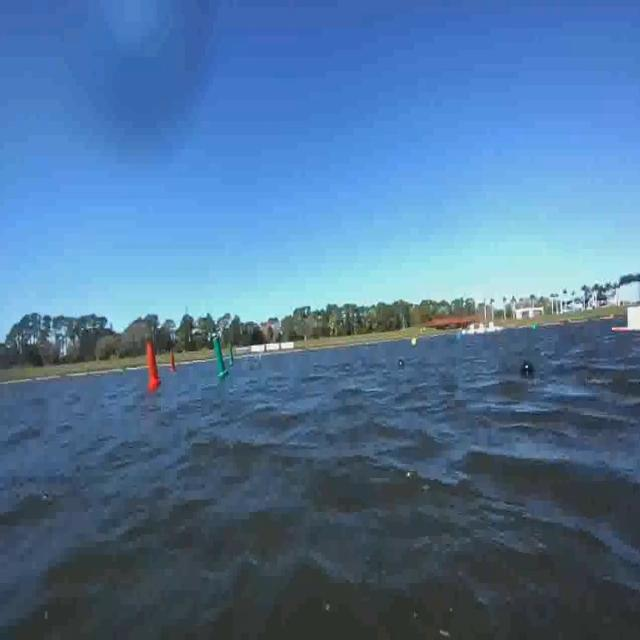black-buoy: (522, 359, 536, 377)
green-column-buoy: (214, 342, 230, 378), (228, 343, 234, 363)
red-column-buoy: (145, 342, 160, 388), (170, 352, 178, 373)
yellow-buoy: (412, 337, 418, 350)
